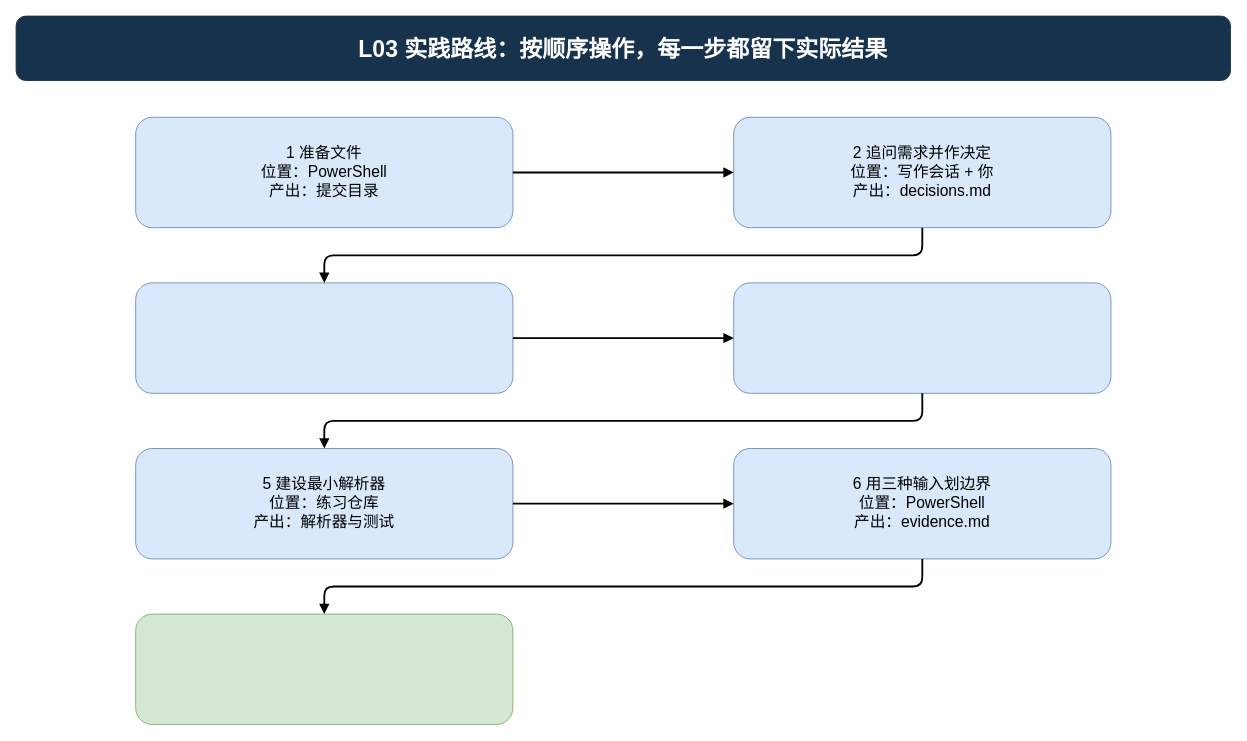
The diagram is 1247 pixels wide and 741 high, and some of its shapes have lost their labels. The shapes that lost their labels are listed below. From the top down, each one's centre as x and y in pixels, then its label:
point 324,337: 3 写初稿并用反例修订 位置：写作会话 + 你 产出：FDE_SPEC.md
point 922,337: 4 抽取通用模板 位置：练习仓库 产出：SPEC_TEMPLATE.md
point 324,668: 7 迁移并交接 位置：你 产出：确认版成果
